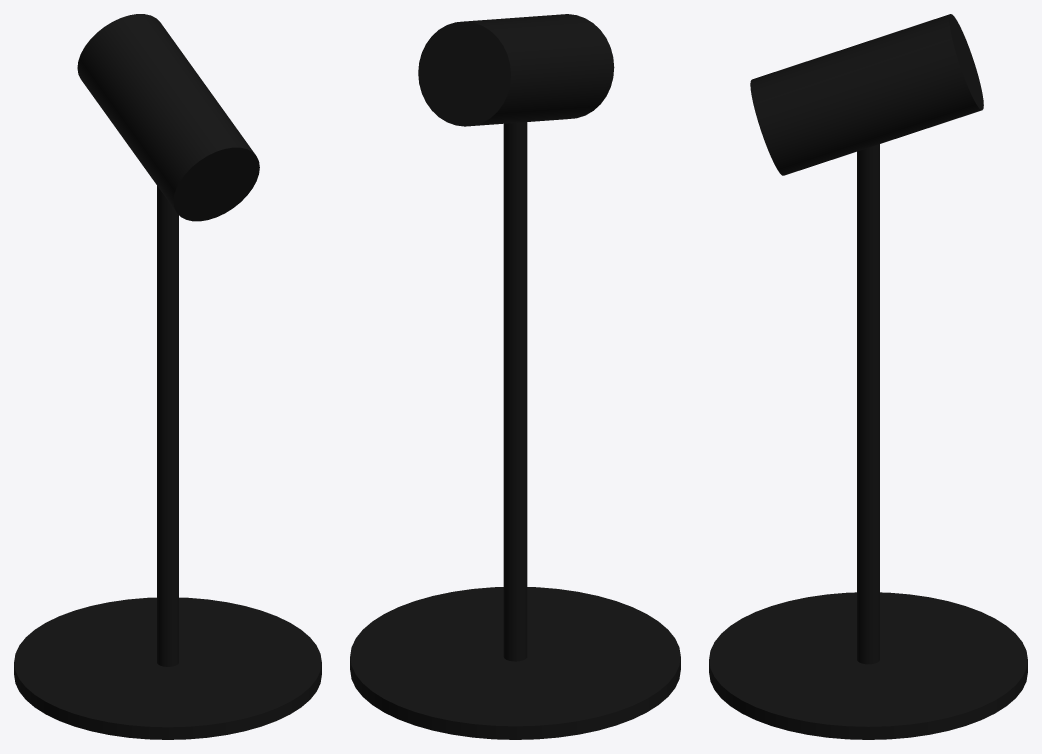
Rendered from rift_camera.obj.
3 views of the same model, side by side, from view 1: azimuth 30°, elevation 25°; view 2: azimuth 150°, elevation 25°; view 3: azimuth 270°, elevation 25° (orthographic). The views are drawn at different scales.
Bounding box in the file's own units: 0.11 × 0.2488 × 0.11.
Materials: 1 (1 with a texture image).
